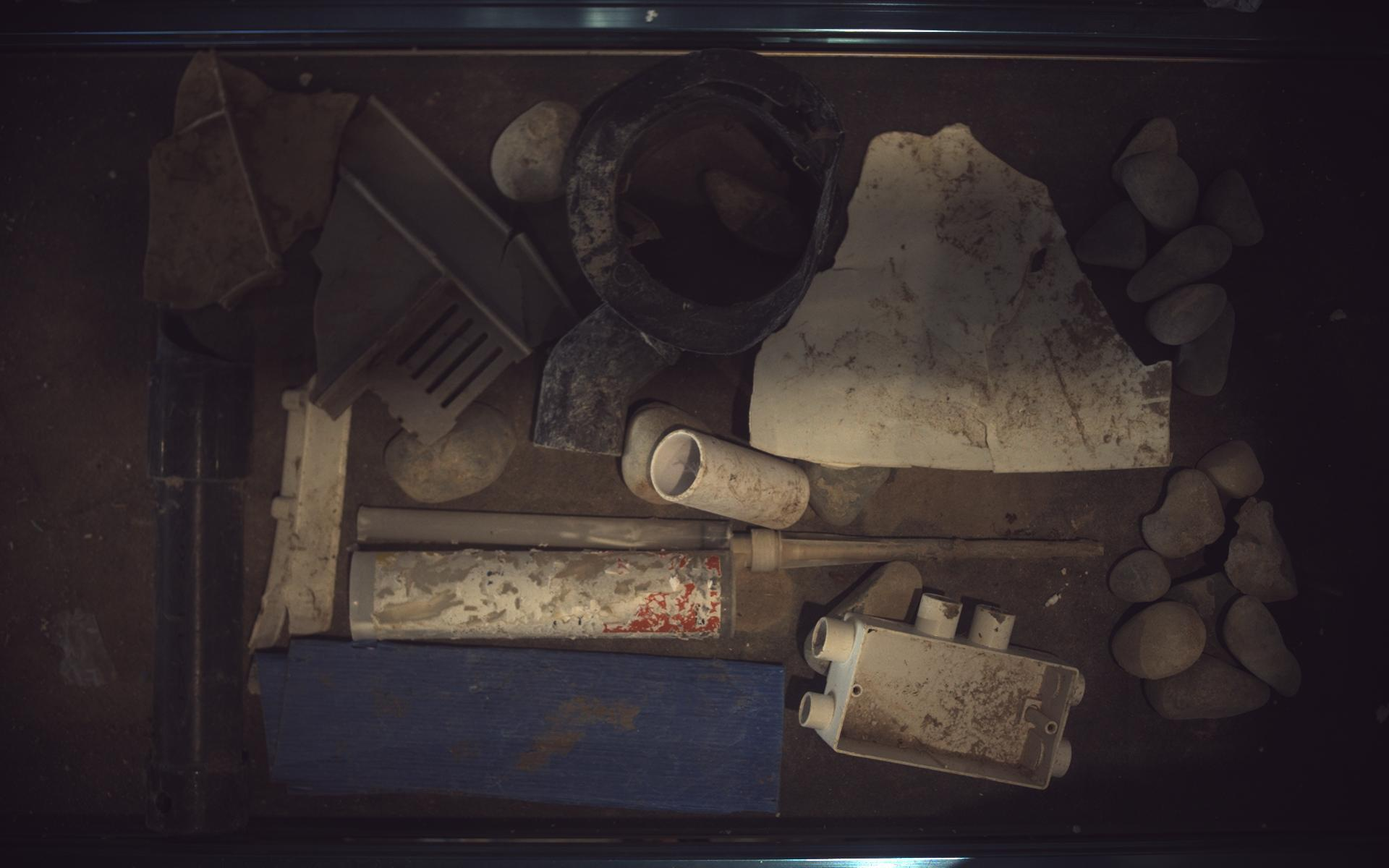pipes: (145, 310, 252, 835), (534, 303, 681, 456), (650, 429, 810, 530)
plastic: (751, 124, 1173, 472), (349, 508, 1105, 641), (250, 639, 785, 815), (312, 95, 577, 441), (568, 49, 844, 354), (799, 595, 1087, 791), (143, 51, 357, 309), (248, 388, 351, 652), (362, 262, 369, 266)
stone: (384, 404, 516, 504), (622, 402, 712, 505), (491, 100, 581, 201), (705, 169, 809, 255), (1147, 656, 1274, 721), (1130, 224, 1235, 302), (1226, 596, 1304, 698), (1144, 469, 1228, 559), (1228, 498, 1299, 603), (1115, 602, 1209, 681), (1169, 573, 1241, 667), (1124, 150, 1202, 233), (801, 463, 893, 527), (1177, 302, 1238, 396), (831, 561, 925, 621), (1149, 282, 1231, 345), (1078, 200, 1149, 269), (1204, 169, 1267, 246), (1115, 116, 1180, 183), (1200, 441, 1267, 503), (1111, 550, 1174, 603), (805, 638, 831, 676)
